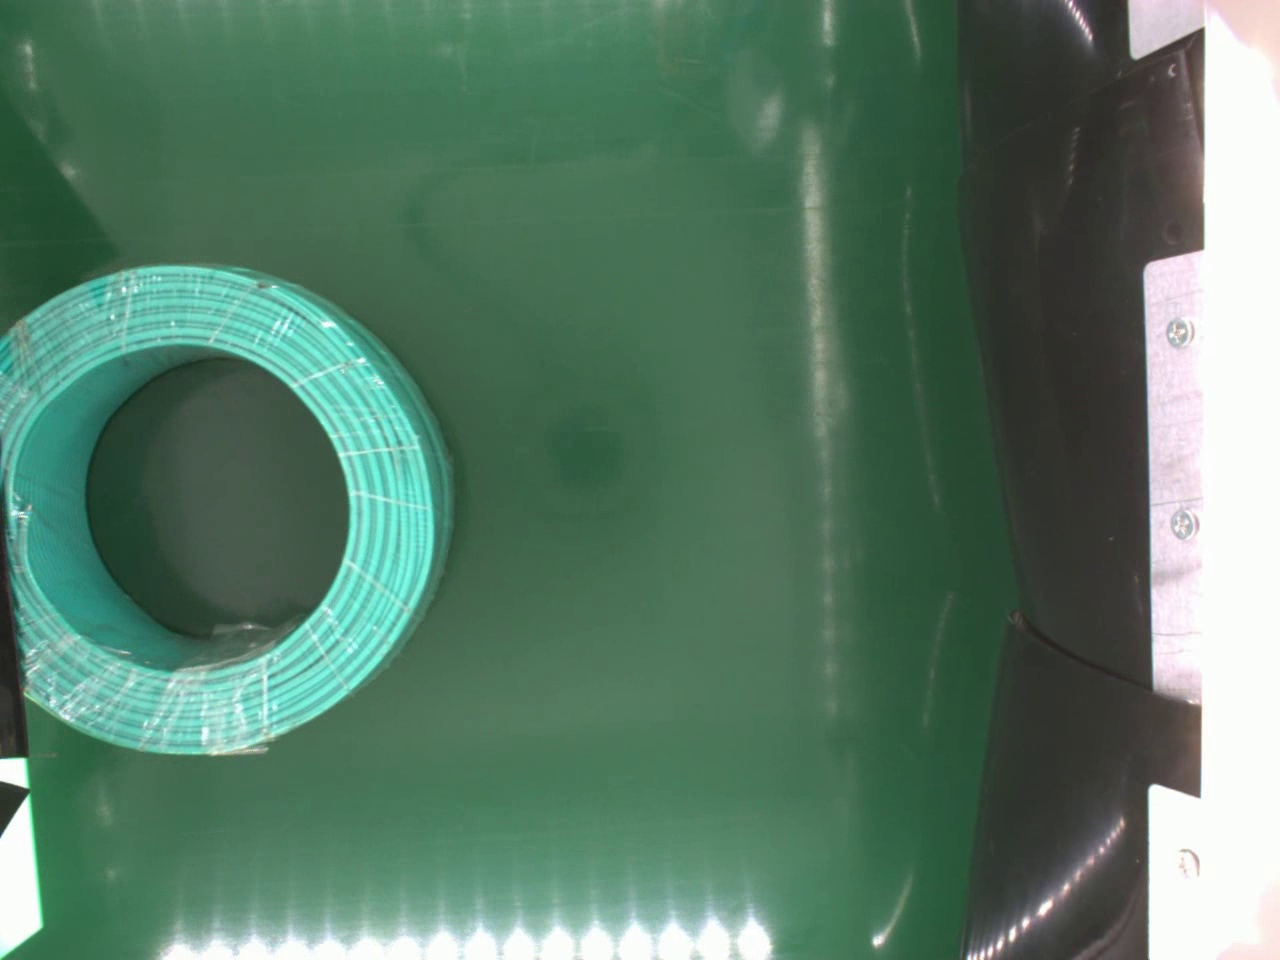green: (0, 261, 463, 756)
